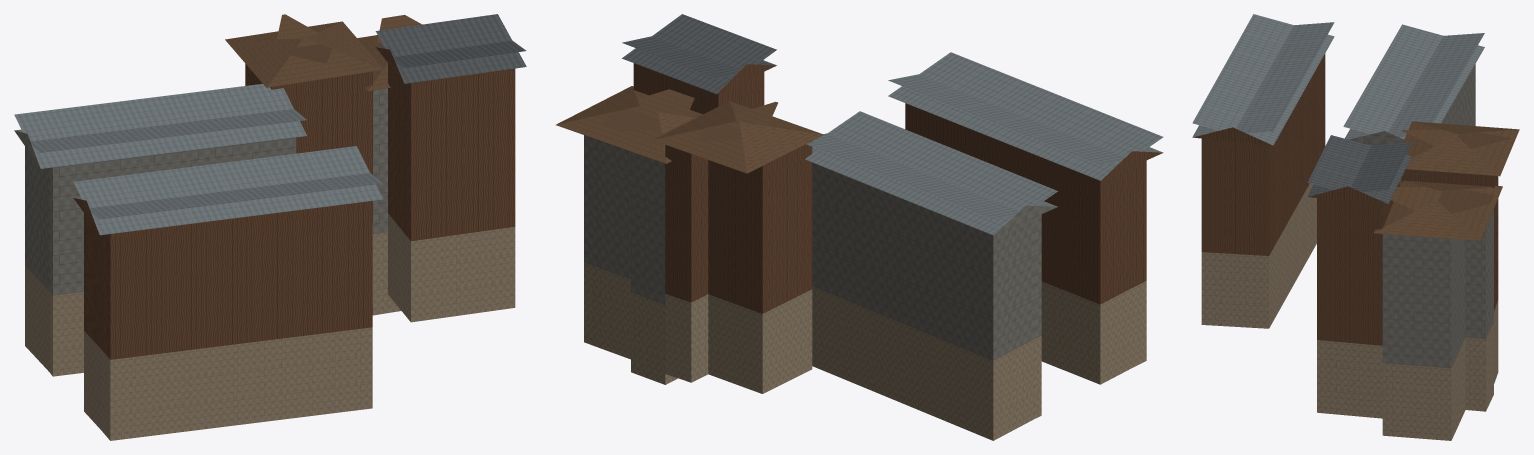
File: bld_c12_30_392.gltf
3 views of the same model, side by side, from view 1: azimuth 30°, elevation 25°; view 2: azimuth 150°, elevation 25°; view 3: azimuth 270°, elevation 25° (orthographic). The views are drawn at different scales.
Visible parts, largest first — view 1: bld_c12_30_392; view 2: bld_c12_30_392; view 3: bld_c12_30_392.
Boxes of the visible parts, box(x1,y1,x2,y2) form: bld_c12_30_392: box(14, 14, 526, 440); bld_c12_30_392: box(556, 14, 1163, 440); bld_c12_30_392: box(1192, 14, 1519, 440).
Size of the model in its own units: 32.19 by 17.5 by 20.8.
8 materials, 8 textured.
